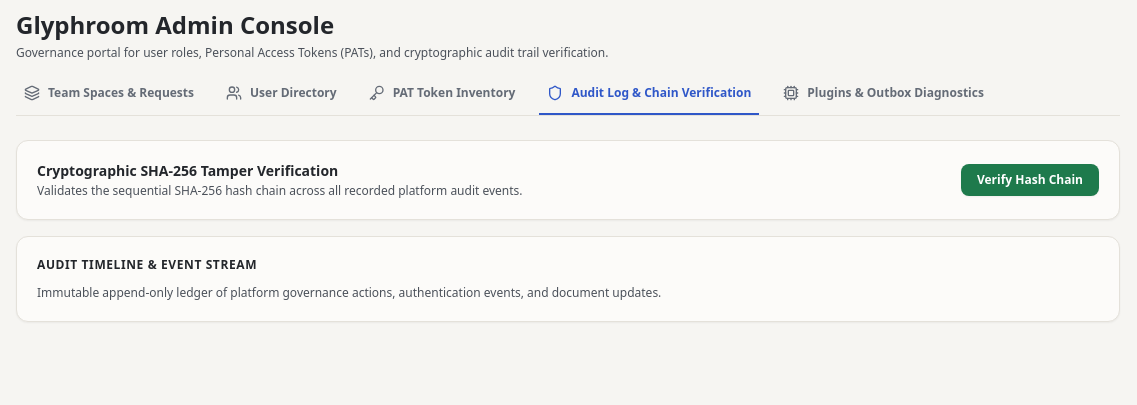
Test: AdminView Component & Cryptographic Hash Chain Verification › Hash Chain Verification — Integrity Failure / Anomaly Detection › displays anomaly error banner and NO success banner when valid: false
The image size is (1137, 405).
Click the button "Verify Hash Chain": point(1030, 180) x1=961 y1=164 x2=1099 y2=196
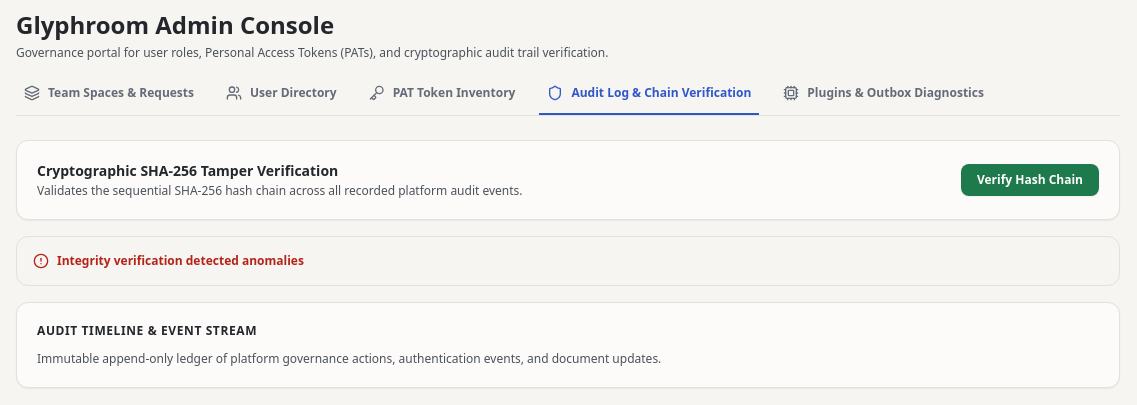
Expected: the text "Integrity verification detected anomalies" is shown, x1=57 y1=253 x2=304 y2=269
